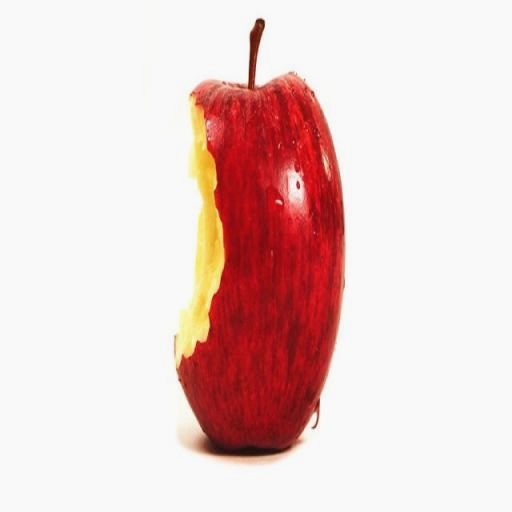fruit: (175, 20, 343, 449)
